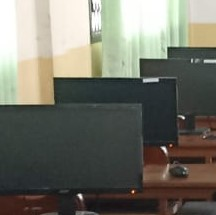monitor: (0, 100, 144, 195), (53, 77, 179, 146), (140, 58, 216, 117)
